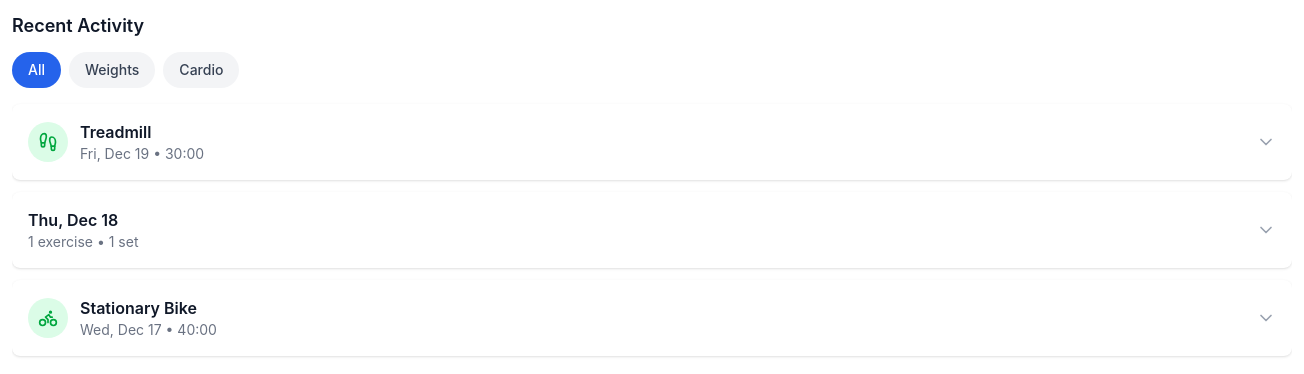
ActivityList › should filter to show only weights when Weights filter is clicked
The width and height of the screenshot is (1304, 374).
Click the button "Weights" at (112, 70), box [69,52,155,88]
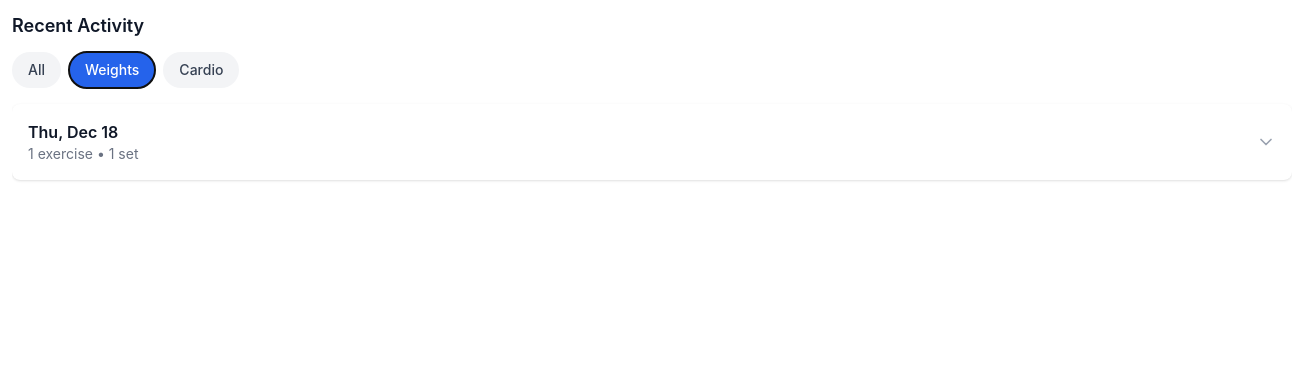
Check: the text "1 exercise • 1 set" is shown, box [28,144,138,164]
Check: the button "Treadmill" is gone
Check: the button "Stationary Bike" is gone
